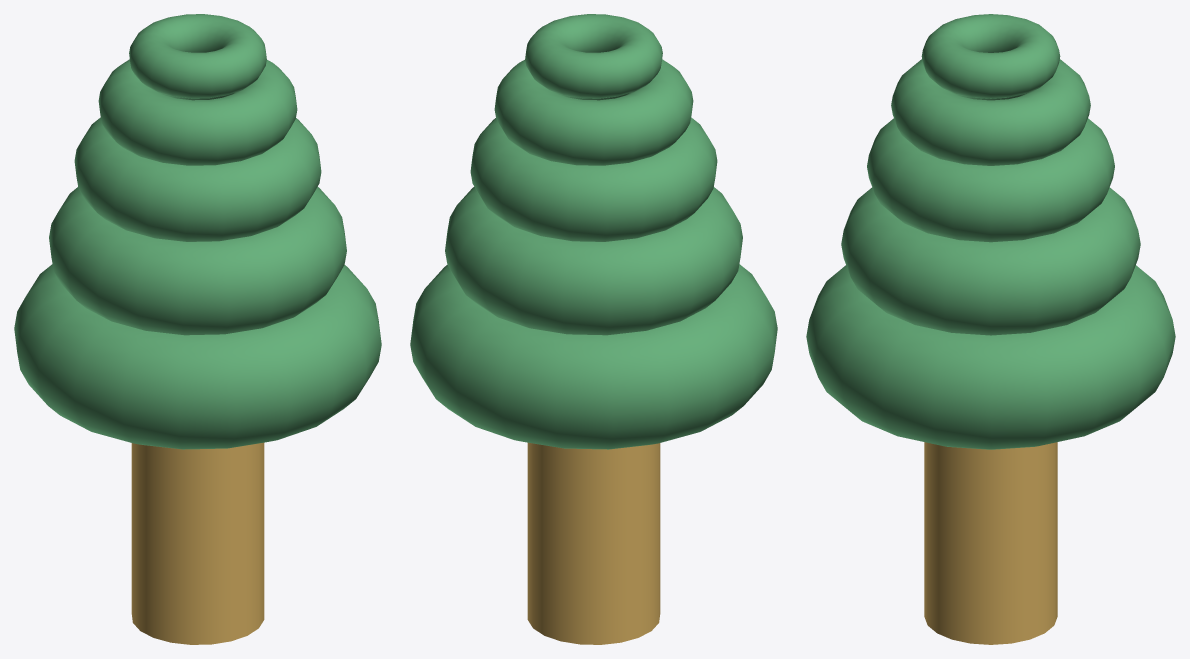
Rendered from donuts_verde.fbx.
3 renders of one model, left to right at view 1: azimuth 30°, elevation 25°; view 2: azimuth 150°, elevation 25°; view 3: azimuth 270°, elevation 25°, orthographic.
Visible parts, largest first — view 1: pTorus9, pTorus8, arvore9, pTorus10, pTorus6, pTorus7; view 2: pTorus9, pTorus8, arvore9, pTorus10, pTorus6, pTorus7; view 3: pTorus9, pTorus8, arvore9, pTorus10, pTorus6, pTorus7.
Part boxes in pixels (<box>): pTorus9: <box>14,264,381,449</box>; pTorus8: <box>49,187,346,335</box>; arvore9: <box>131,442,264,644</box>; pTorus10: <box>74,117,321,241</box>; pTorus6: <box>98,59,297,165</box>; pTorus7: <box>129,14,266,98</box>; pTorus9: <box>410,264,777,449</box>; pTorus8: <box>445,187,742,335</box>; arvore9: <box>527,442,660,644</box>; pTorus10: <box>470,117,717,241</box>; pTorus6: <box>494,59,693,165</box>; pTorus7: <box>525,14,662,98</box>; pTorus9: <box>806,265,1175,449</box>; pTorus8: <box>841,187,1140,335</box>; arvore9: <box>924,442,1057,644</box>; pTorus10: <box>867,118,1114,242</box>; pTorus6: <box>891,59,1090,165</box>; pTorus7: <box>921,14,1060,98</box>.
Bounding box in the file's own units: 1.57 × 2.73 × 1.57.
